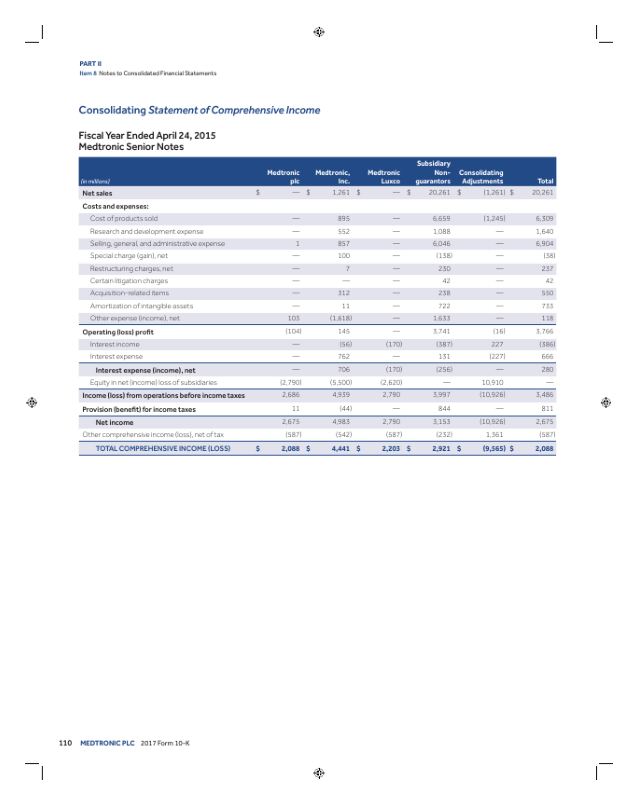table: (75, 156, 556, 459)
